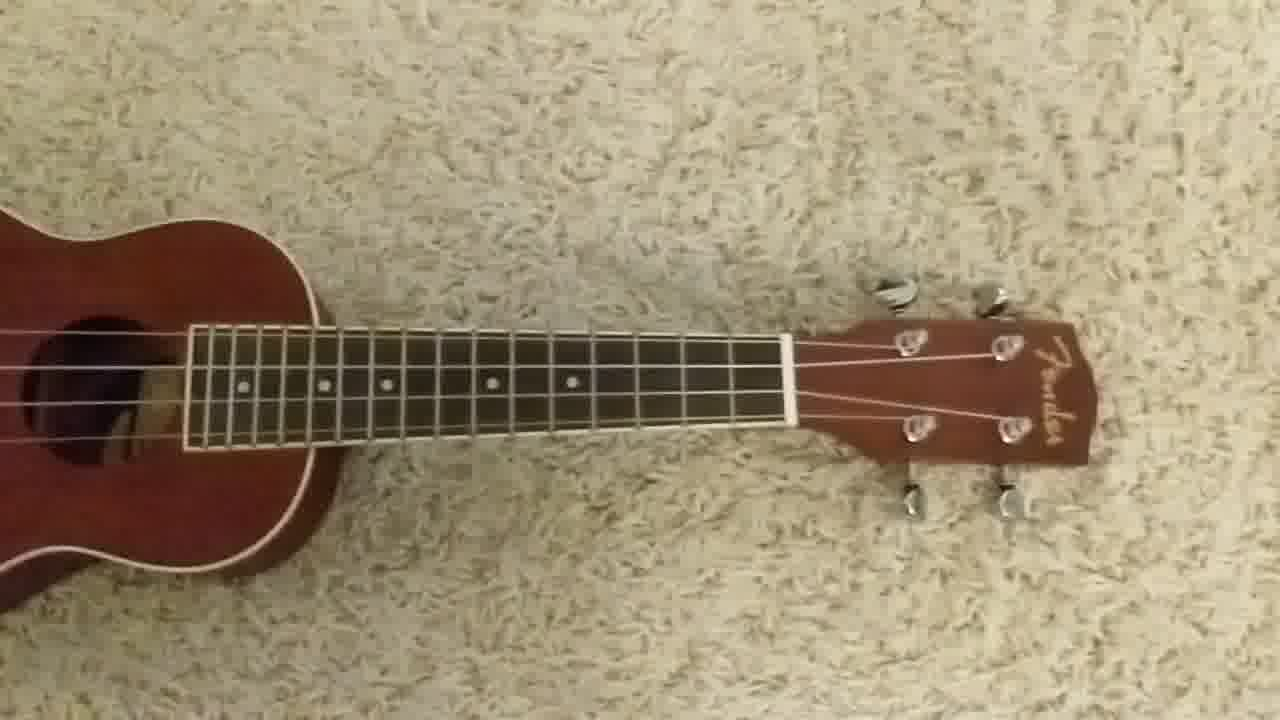Body: (1, 202, 345, 612)
Headstock: (796, 269, 1101, 527)
